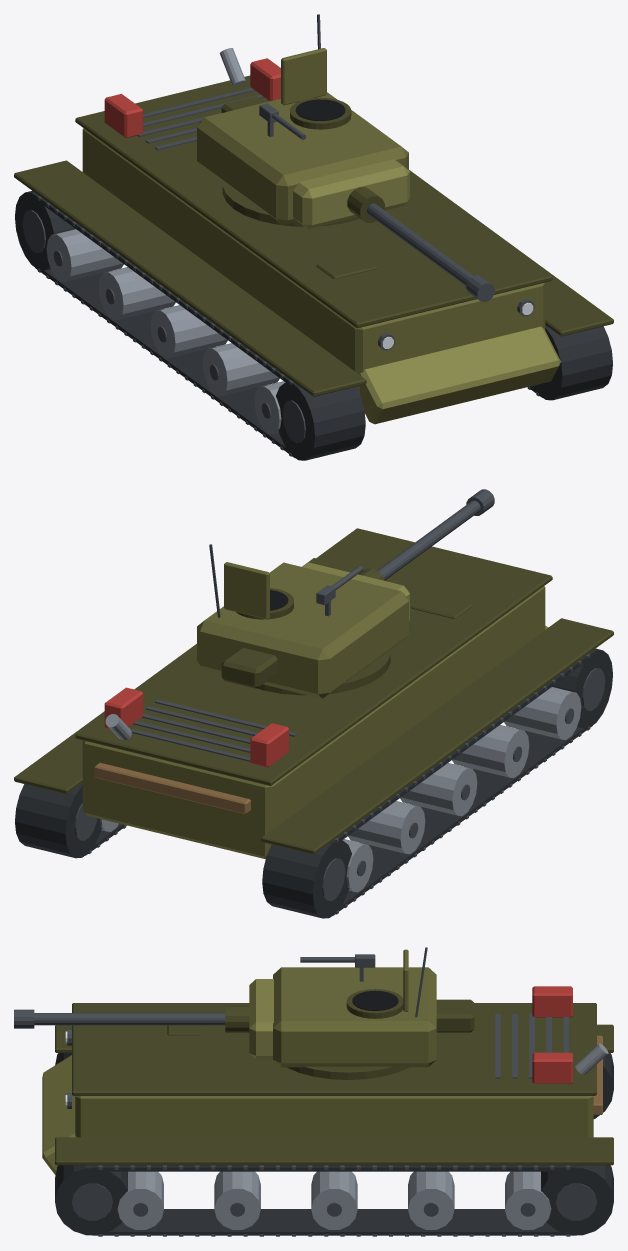
The model's file is tank.glb.
3 views of the same model, one above another, from view 1: azimuth 30°, elevation 25°; view 2: azimuth 150°, elevation 25°; view 3: azimuth 270°, elevation 25° (orthographic). The views are drawn at different scales.
Parts seen in each view (by area): view 1: pieces_kaki_sombre.002, pieces_kaki.002, pieces_fonte.004, tourelle_kaki.002, chenille_g_acier.002, pieces_kaki_clair.002, tourelle_kaki_clair.002, pieces_acier_sombre.006, tourelle_kaki_sombre.002, tourelle_acier_sombre.002, pieces_rouge.004, tourelle_noir.002 (+1 smaller); view 2: pieces_kaki_sombre.002, pieces_kaki.002, tourelle_kaki.002, pieces_fonte.004, chenille_g_acier.002, pieces_acier_sombre.006, tourelle_kaki_sombre.002, tourelle_acier_sombre.002, pieces_bois.006, pieces_rouge.004, tourelle_kaki_clair.002, chenille_g_acier_sombre.002; view 3: pieces_kaki_sombre.002, pieces_kaki.002, pieces_fonte.004, tourelle_kaki.002, chenille_d_acier.002, pieces_acier_sombre.006, tourelle_kaki_sombre.002, tourelle_acier_sombre.002, pieces_kaki_clair.002, pieces_rouge.004, tourelle_kaki_clair.002, chenille_d_acier_sombre.002 (+3 smaller).
Boxes of the visible parts, box(x1,y1,x2,y2) form: pieces_kaki_sombre.002: box(14, 75, 613, 396); pieces_kaki.002: box(82, 128, 545, 393); pieces_fonte.004: box(15, 191, 612, 460); tourelle_kaki.002: box(197, 48, 408, 224); chenille_g_acier.002: box(46, 229, 285, 434); pieces_kaki_clair.002: box(360, 326, 560, 424); tourelle_kaki_clair.002: box(293, 159, 409, 228); pieces_acier_sombre.006: box(22, 87, 548, 456); tourelle_kaki_sombre.002: box(221, 96, 384, 226); tourelle_acier_sombre.002: box(259, 14, 494, 301); pieces_rouge.004: box(104, 58, 280, 137); tourelle_noir.002: box(295, 99, 345, 120); pieces_kaki_sombre.002: box(14, 528, 613, 854); pieces_kaki.002: box(82, 586, 545, 859); tourelle_kaki.002: box(197, 562, 408, 698); pieces_fonte.004: box(15, 648, 612, 918); chenille_g_acier.002: box(342, 687, 581, 892); pieces_acier_sombre.006: box(74, 654, 605, 914); tourelle_kaki_sombre.002: box(221, 568, 390, 695); tourelle_acier_sombre.002: box(209, 489, 494, 617); pieces_bois.006: box(94, 762, 250, 814); pieces_rouge.004: box(104, 687, 288, 767); tourelle_kaki_clair.002: box(302, 562, 409, 620); chenille_g_acier_sombre.002: box(357, 708, 574, 876); pieces_kaki_sombre.002: box(55, 1003, 613, 1165); pieces_kaki.002: box(75, 1096, 593, 1137); pieces_fonte.004: box(55, 1053, 613, 1235); tourelle_kaki.002: box(273, 949, 436, 1067); chenille_d_acier.002: box(117, 1171, 551, 1229); pieces_acier_sombre.006: box(67, 1014, 596, 1236); tourelle_kaki_sombre.002: box(225, 989, 474, 1079); tourelle_acier_sombre.002: box(14, 947, 427, 1028); pieces_kaki_clair.002: box(42, 1055, 76, 1174); pieces_rouge.004: box(532, 986, 572, 1083); tourelle_kaki_clair.002: box(249, 979, 273, 1059); chenille_d_acier_sombre.002: box(133, 1202, 535, 1216).
Size of the model in its own units: 2.4 by 1.99 by 4.4.
